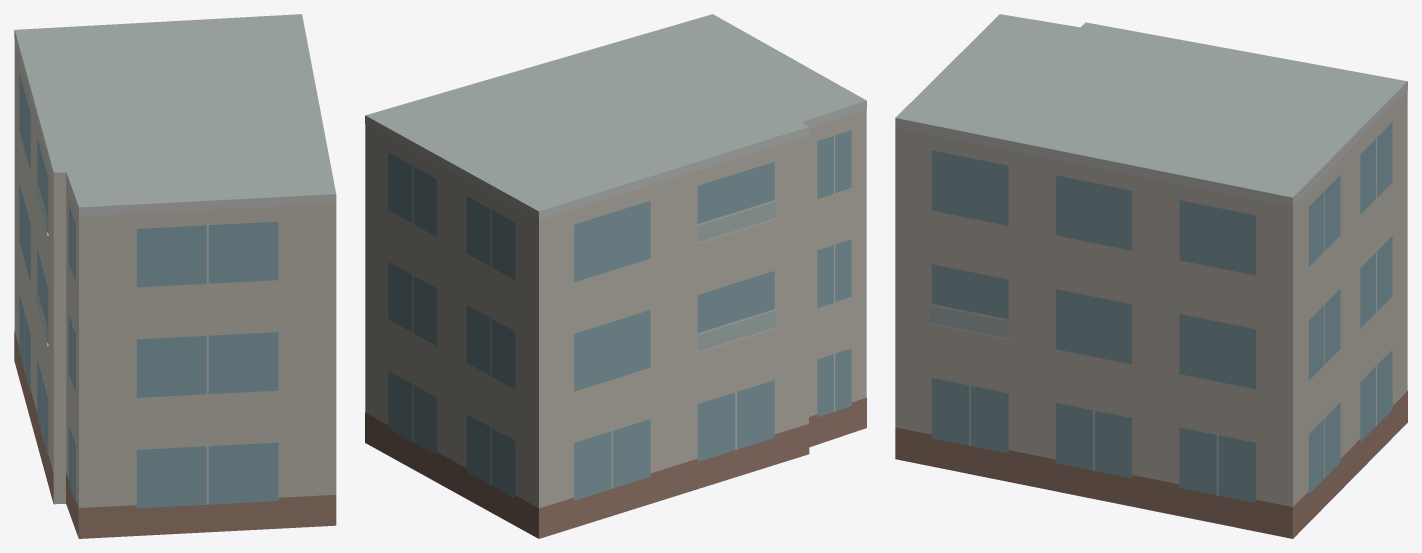
Rendered from survey-upis-32536631.glb.
The picture shows the model from 3 angles, left to right: view 1: azimuth 30°, elevation 25°; view 2: azimuth 150°, elevation 25°; view 3: azimuth 270°, elevation 25°; orthographic projection. The views are drawn at different scales.
Visible parts, largest first — view 1: survey-upis-32536631.tmp; view 2: survey-upis-32536631.tmp; view 3: survey-upis-32536631.tmp.
Boxes of the visible parts, <box> form: survey-upis-32536631.tmp: <box>14,14,336,538</box>; survey-upis-32536631.tmp: <box>365,14,866,538</box>; survey-upis-32536631.tmp: <box>895,14,1407,538</box>.
Size of the model in its own units: 10.51 by 9.1 by 12.39.
